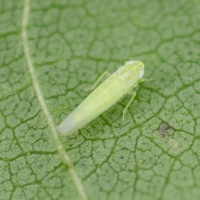insect: (58, 61, 143, 134)
